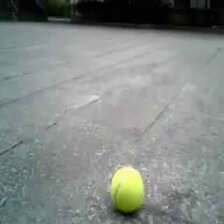tennis: (111, 166, 145, 210)
